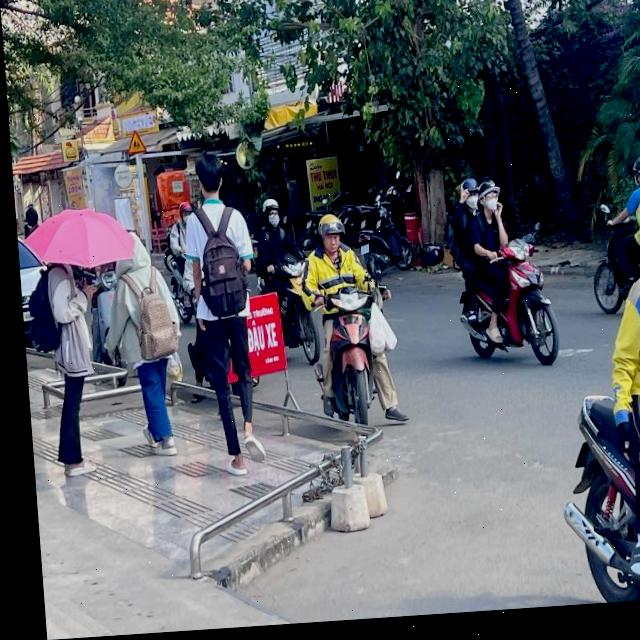motorcycle: (549, 378, 640, 605), (448, 219, 568, 376), (308, 264, 407, 440)
